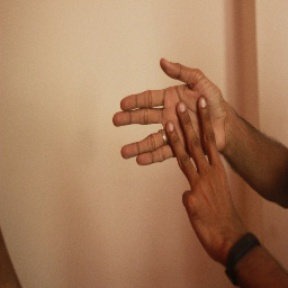M: (111, 55, 228, 193)
